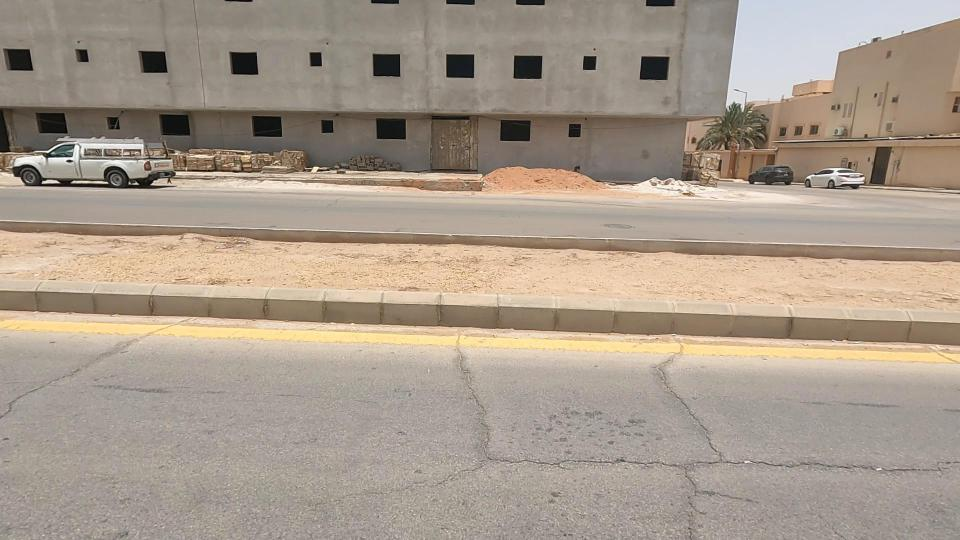CLUTTER_SIDEWALK: (0, 172, 485, 342), (483, 198, 960, 340), (292, 184, 679, 339)
SAND_ON_ROAD: (426, 141, 653, 219)
